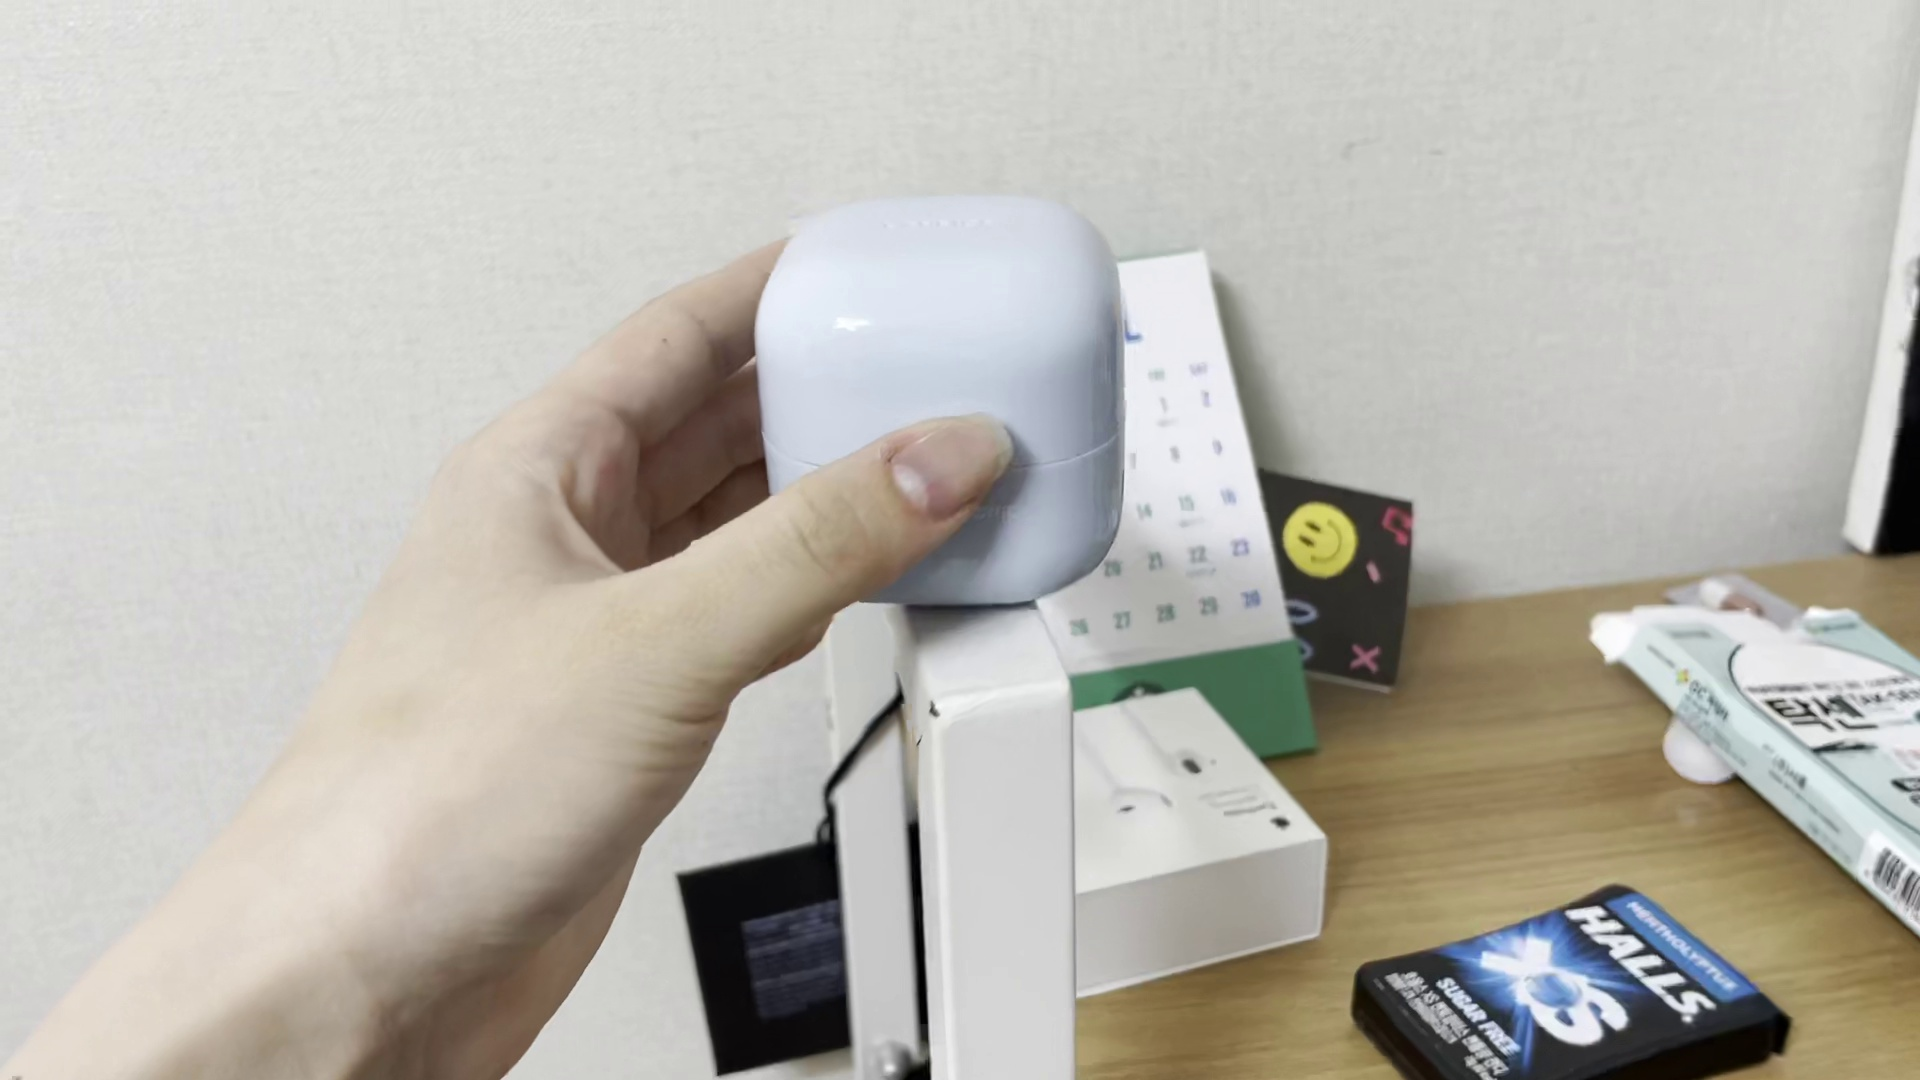cream: (761, 193, 1120, 605)
